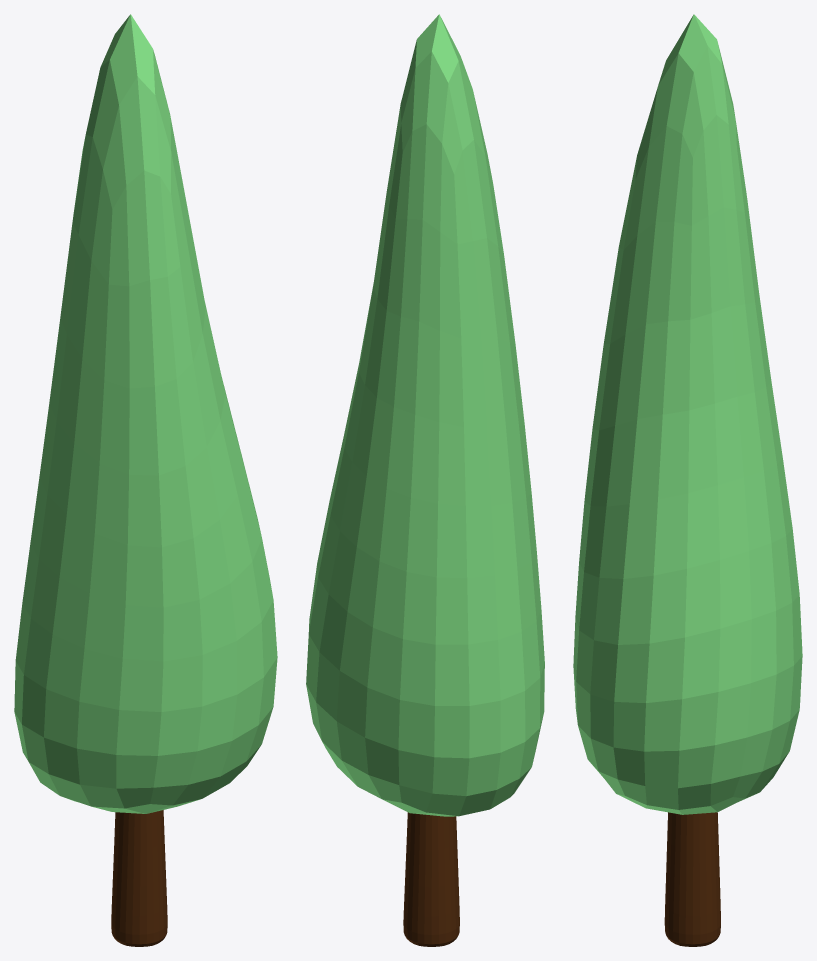
Rendered from Tree_04.fbx.
3 renders of one model, left to right at view 1: azimuth 30°, elevation 25°; view 2: azimuth 150°, elevation 25°; view 3: azimuth 270°, elevation 25°, orthographic.
Visible parts, largest first — view 1: Tree.003; view 2: Tree.003; view 3: Tree.003.
Boxes of the visible parts, box(x1,y1,x2,y2) form: Tree.003: box(14, 14, 277, 946); Tree.003: box(306, 14, 544, 946); Tree.003: box(573, 14, 802, 946).
Size of the model in its own units: 293 by 1169 by 264.
